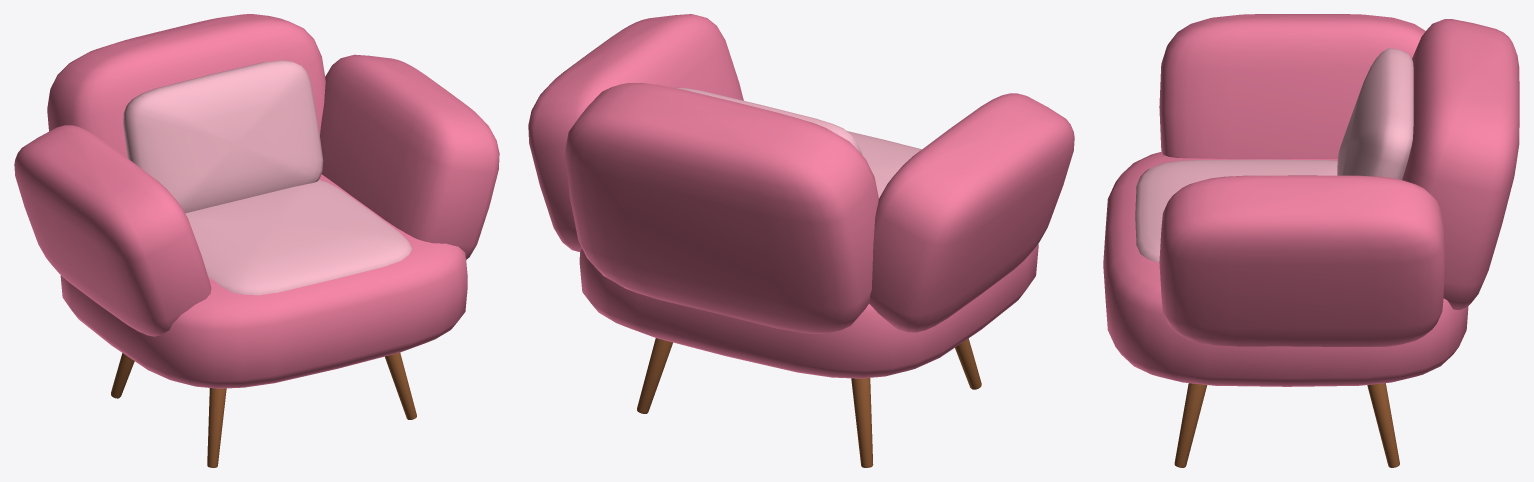
Rendered from poltrona_concha_rosa.glb.
3 renders of one model, left to right at view 1: azimuth 30°, elevation 25°; view 2: azimuth 150°, elevation 25°; view 3: azimuth 270°, elevation 25°, orthographic. The views are drawn at different scales.
Visible parts, largest first — view 1: poltrona_concha_rosa; view 2: poltrona_concha_rosa; view 3: poltrona_concha_rosa.
Part boxes in pixels (left/top/right/bottom): poltrona_concha_rosa: left=14, top=14, right=499, bottom=467; poltrona_concha_rosa: left=528, top=14, right=1074, bottom=467; poltrona_concha_rosa: left=1103, top=14, right=1519, bottom=467.
Bounding box in the file's own units: 0.9749 × 0.7595 × 0.8148.
1 material, 1 textured.
